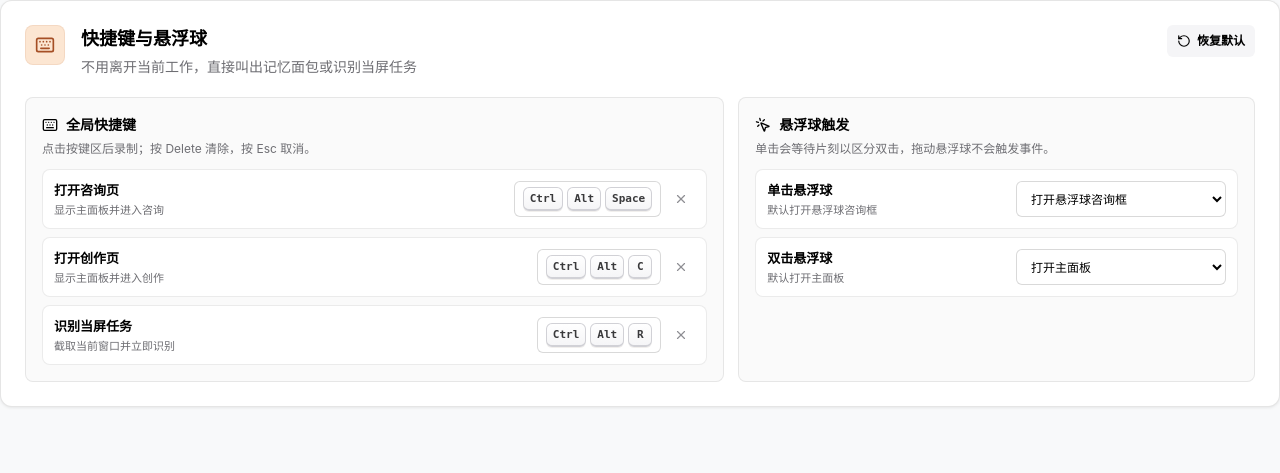
InteractionSettings › 录制快捷键后立即保存
Click the button with aria-label "打开咨询页快捷键" at (587, 199), box x1=514 y1=181 x2=661 y2=217
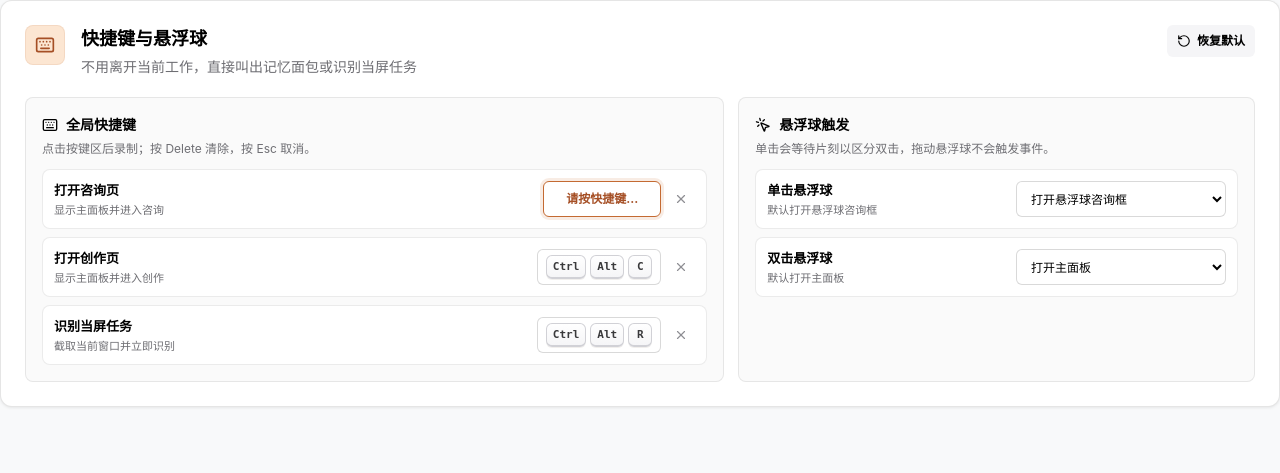
Result: the button with aria-label "打开咨询页快捷键" is pressed
Press q in the button with aria-label "打开咨询页快捷键", box x1=543 y1=181 x2=661 y2=217
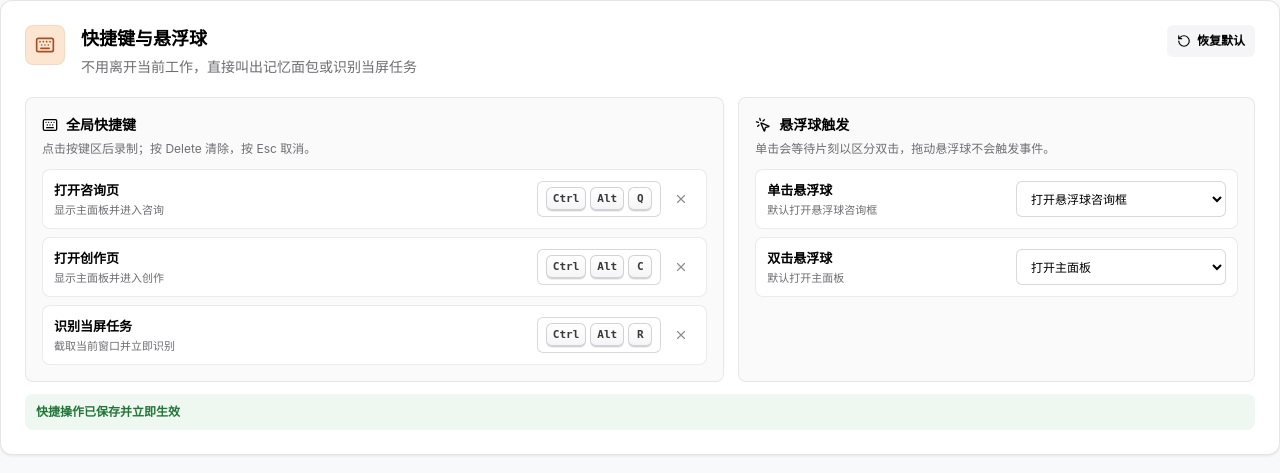
Result: the message reads "快捷操作已保存并立即生效" at x1=36 y1=404 x2=180 y2=419
